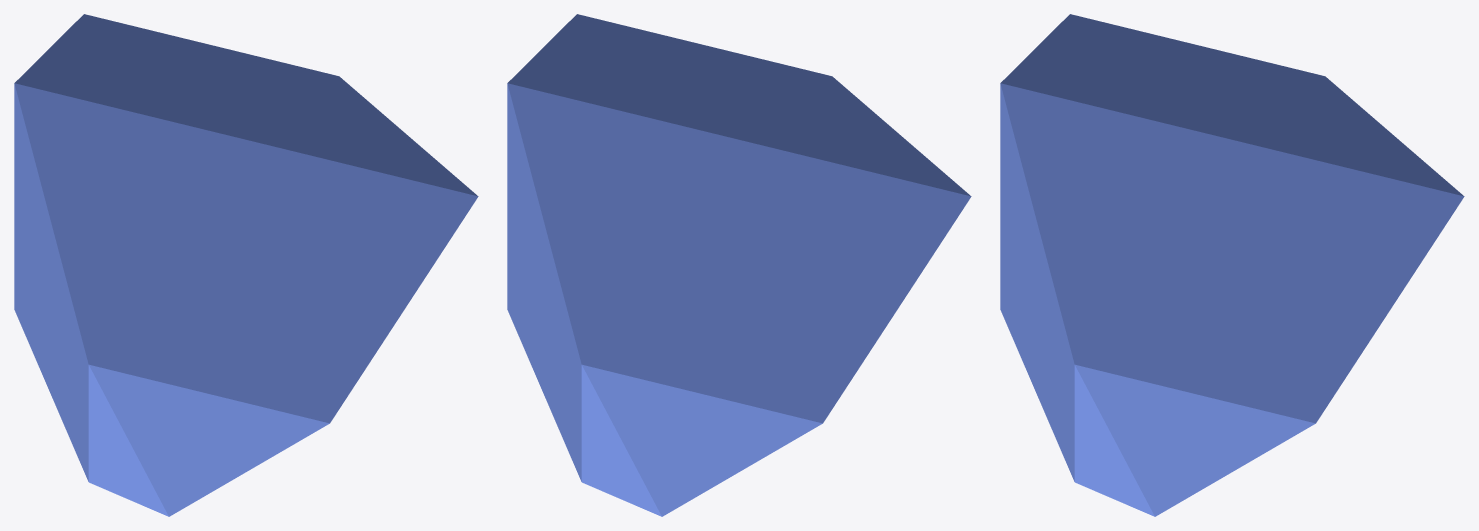
File: sapphire.glb
The picture shows the model from 3 angles, left to right: view 1: azimuth 30°, elevation 25°; view 2: azimuth 150°, elevation 25°; view 3: azimuth 270°, elevation 25°; orthographic projection.
Size of the model in its own units: 0.25 by 0.2268 by 0.2165.
